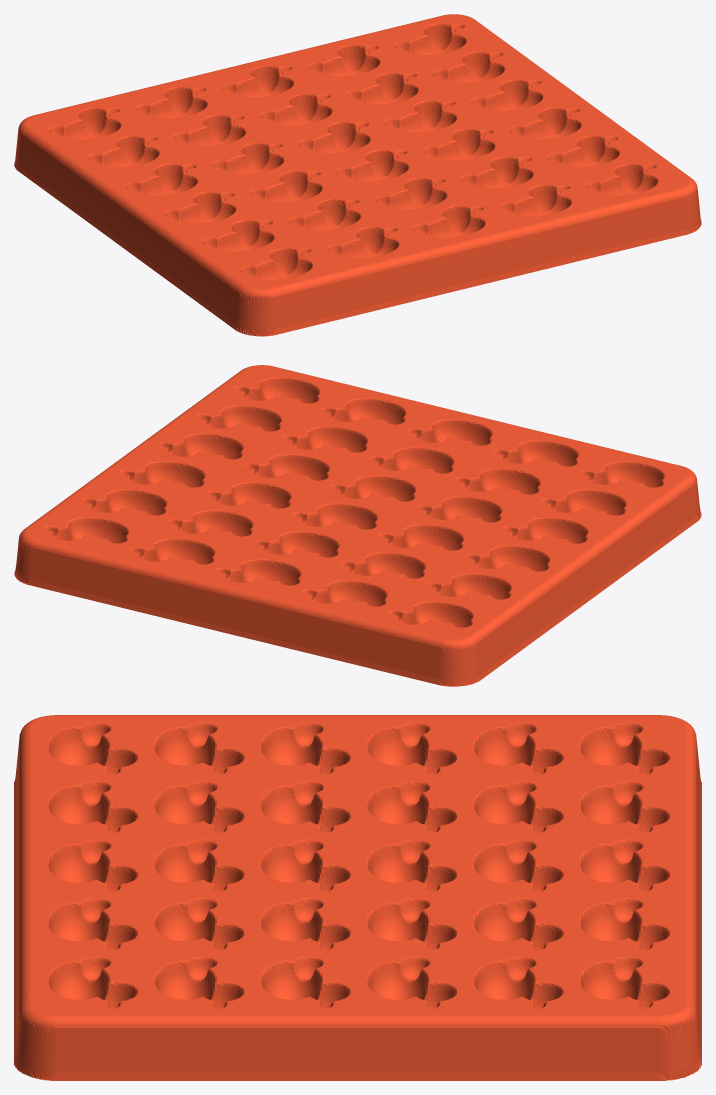
Rendered from mold.glb.
3 renders of one model, top to bottom at view 1: azimuth 30°, elevation 25°; view 2: azimuth 150°, elevation 25°; view 3: azimuth 270°, elevation 25°, orthographic. The views are drawn at different scales.
Parts seen in each view (by area): view 1: geometry_0; view 2: geometry_0; view 3: geometry_0.
Part boxes in pixels (x1,y1,x2,y2): geometry_0: (14, 14, 701, 336); geometry_0: (14, 365, 701, 686); geometry_0: (14, 715, 701, 1080).
Size of the model in its own units: 0.1566 by 0.0136 by 0.1452.
